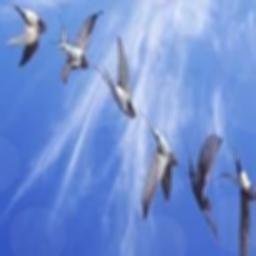Swallow: (136, 107, 178, 221), (185, 133, 222, 242), (220, 146, 256, 256), (52, 7, 102, 85), (93, 39, 137, 119), (6, 0, 46, 67)
